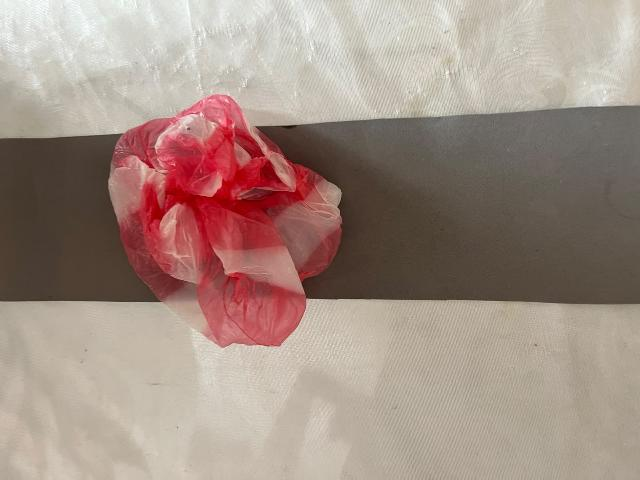LDPE: (91, 75, 360, 364)
